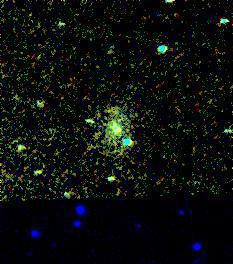star: (102, 112, 132, 142)
